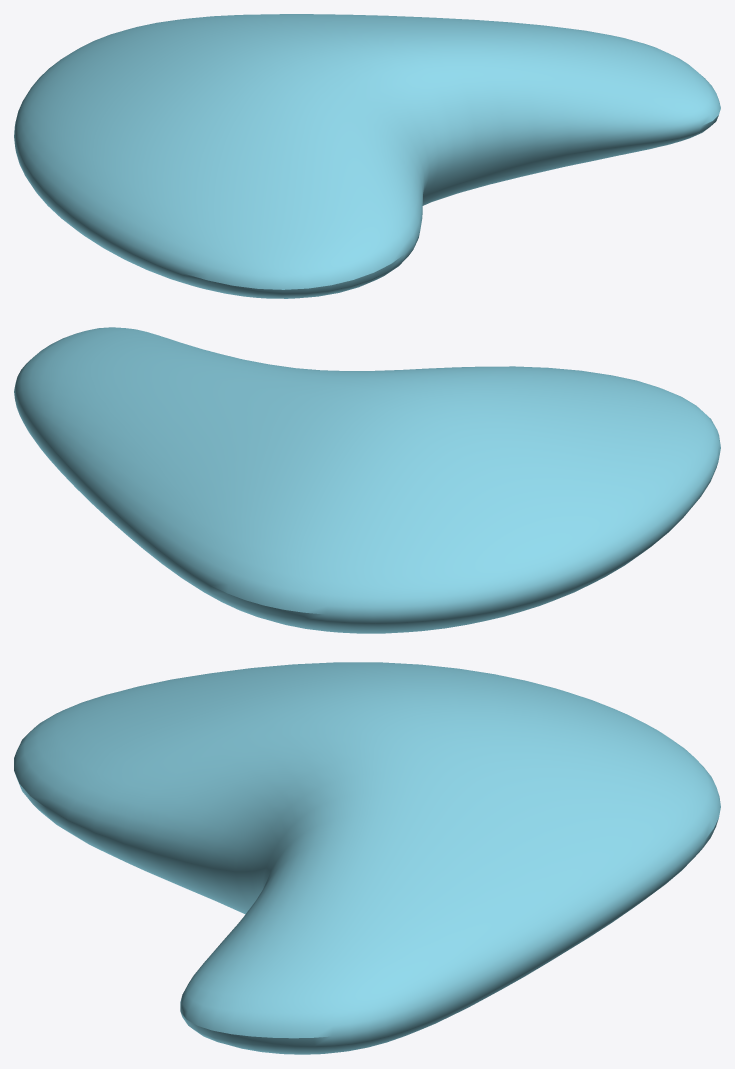
The picture shows the model from 3 angles, top to bottom: view 1: azimuth 30°, elevation 25°; view 2: azimuth 150°, elevation 25°; view 3: azimuth 270°, elevation 25°; orthographic projection. The views are drawn at different scales.
Parts seen in each view (by area): view 1: Plane; view 2: Plane; view 3: Plane.
Boxes of the visible parts, x1,y1,x2,y2 form: Plane: (14, 14, 720, 298); Plane: (14, 327, 720, 633); Plane: (14, 662, 720, 1054).
Bounding box in the file's own units: 1952 × 555 × 1652.
